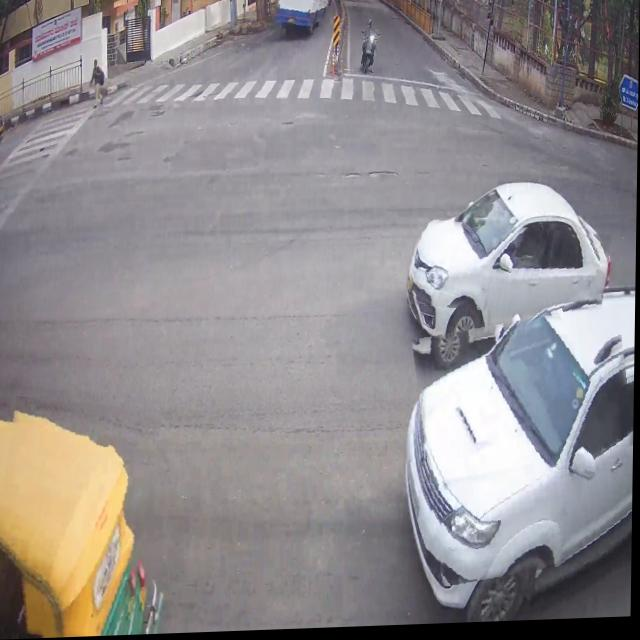Bus: (271, 0, 329, 36)
Car: (418, 313, 636, 584), (410, 222, 610, 326)
Three-wheeler: (0, 396, 155, 640)
Two-wheelers: (361, 31, 385, 79)
